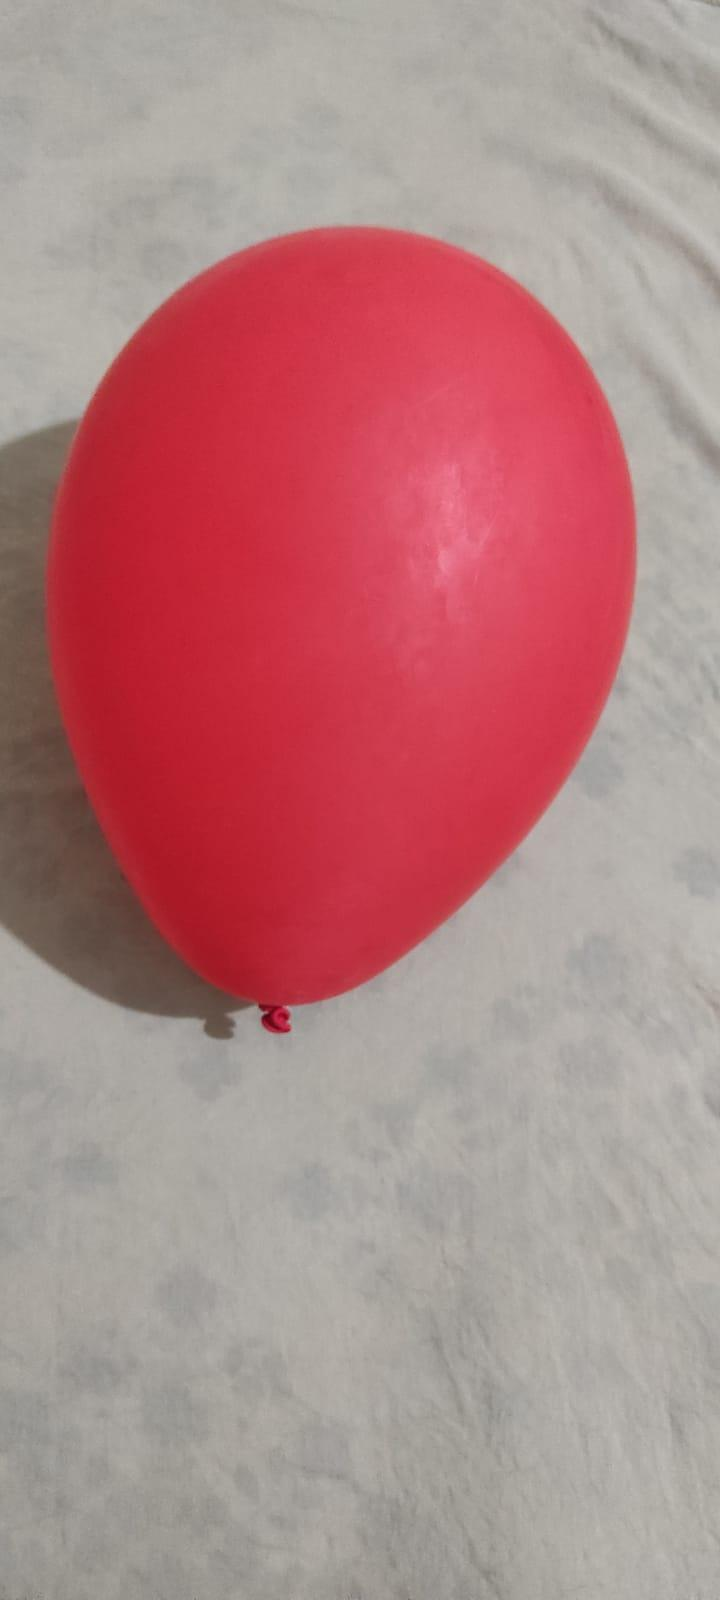red: (47, 224, 636, 1043)
